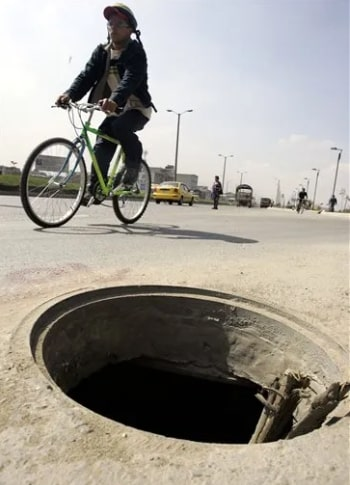open_manhole: (36, 280, 347, 454)
